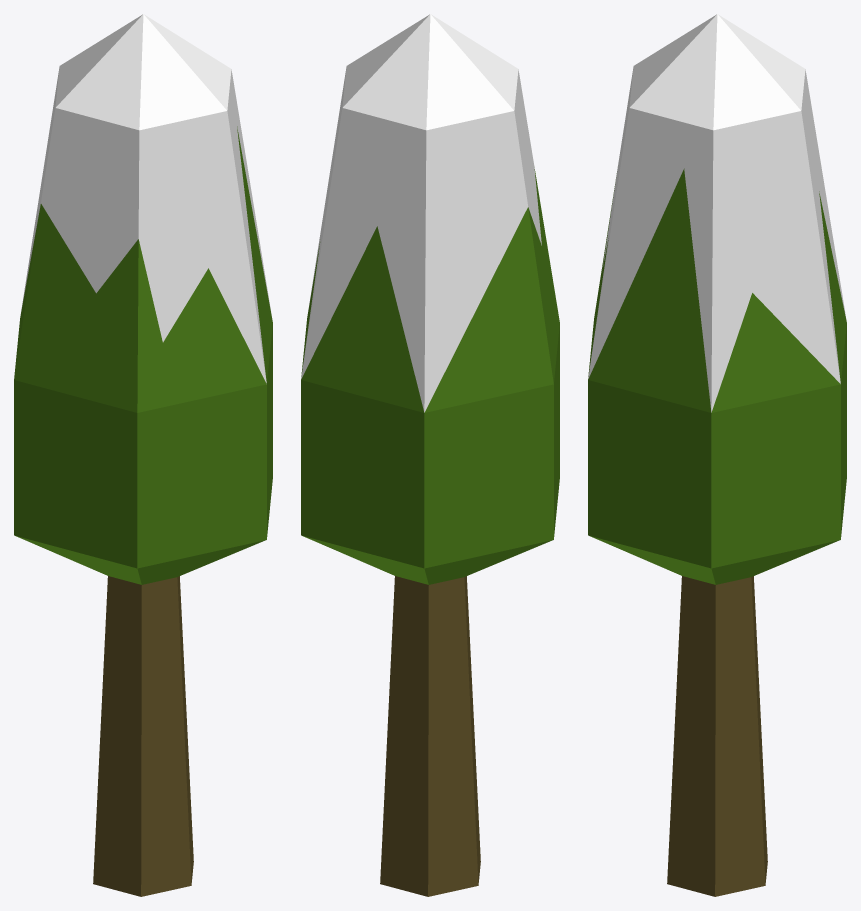
File: Tree_Generic_Winter_Snow_Capped_01.fbx
The picture shows the model from 3 angles, left to right: view 1: azimuth 30°, elevation 25°; view 2: azimuth 150°, elevation 25°; view 3: azimuth 270°, elevation 25°; orthographic projection.
Parts seen in each view (by area): view 1: Model; view 2: Model; view 3: Model.
Boxes of the visible parts, bbox=[...] form: Model: bbox=[14, 14, 272, 896]; Model: bbox=[301, 14, 559, 896]; Model: bbox=[588, 14, 846, 896].
Size of the model in its own units: 441 by 1431 by 391.
